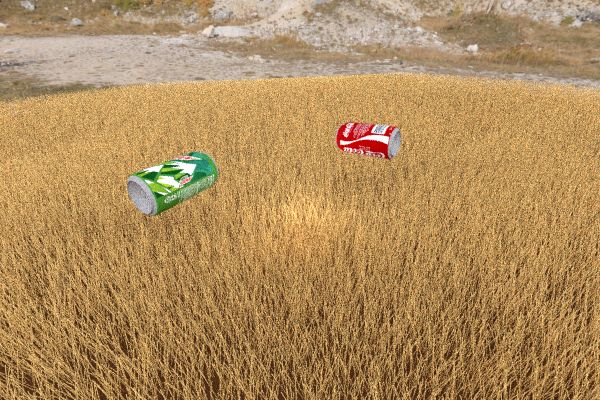bottle: (99, 119, 188, 158)
can: (127, 151, 218, 216), (335, 122, 401, 159)
